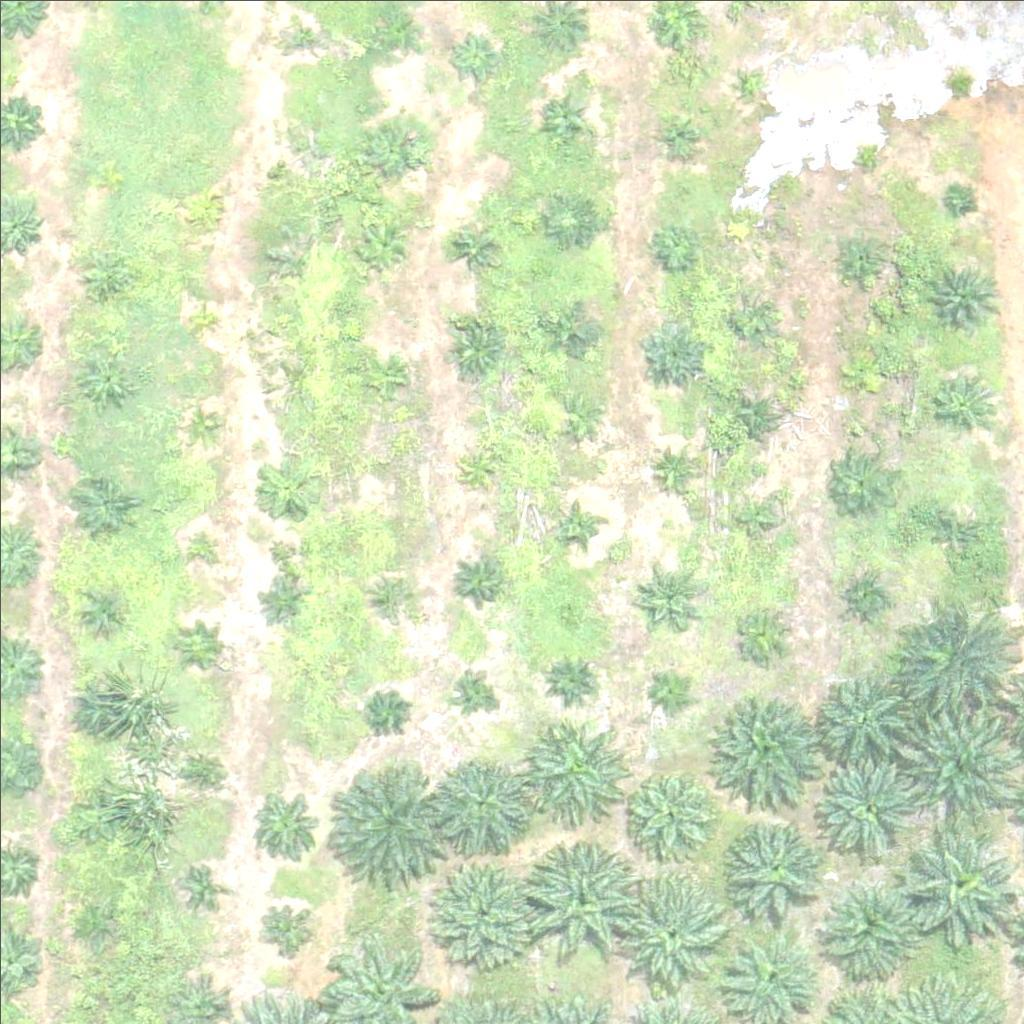Kelapa_Sawit: (516, 836, 641, 962), (608, 870, 733, 996), (898, 705, 1023, 831), (890, 594, 1015, 720), (320, 756, 445, 881), (711, 686, 824, 800), (431, 855, 544, 968), (811, 756, 923, 870), (901, 836, 1013, 950), (523, 705, 635, 818), (434, 756, 534, 857), (620, 762, 720, 863), (727, 818, 827, 918), (814, 879, 914, 979), (817, 671, 905, 759), (926, 258, 1001, 334), (246, 790, 321, 865), (640, 557, 703, 620), (734, 603, 797, 666), (367, 119, 430, 182), (68, 474, 131, 537), (638, 321, 701, 384), (72, 344, 135, 407), (67, 674, 130, 737), (723, 486, 786, 549), (831, 448, 893, 511), (931, 369, 993, 432), (444, 317, 506, 380), (350, 216, 412, 279), (254, 456, 316, 519), (927, 499, 989, 562), (544, 194, 594, 245), (76, 582, 126, 633), (546, 312, 596, 363), (726, 390, 776, 441), (257, 897, 307, 948), (69, 788, 119, 839), (650, 447, 700, 498), (725, 296, 775, 347), (846, 569, 896, 620), (837, 350, 887, 401), (649, 223, 699, 274), (451, 223, 501, 274), (277, 8, 327, 59), (365, 10, 415, 61), (447, 33, 497, 84), (539, 91, 589, 142), (546, 655, 596, 705), (452, 557, 502, 607), (82, 256, 132, 306), (256, 578, 306, 628), (356, 353, 406, 403), (553, 393, 603, 443), (645, 660, 695, 710), (831, 230, 881, 280), (654, 107, 704, 157), (174, 625, 212, 663), (367, 697, 405, 735), (74, 908, 112, 946), (181, 524, 219, 562), (183, 405, 221, 443), (181, 298, 219, 336), (185, 198, 223, 236), (459, 451, 497, 489), (556, 506, 594, 544), (451, 671, 488, 709), (374, 573, 411, 611), (362, 444, 399, 482), (279, 146, 316, 184), (184, 864, 221, 901), (180, 754, 217, 791), (947, 185, 972, 211), (742, 75, 767, 100), (854, 148, 879, 173)
